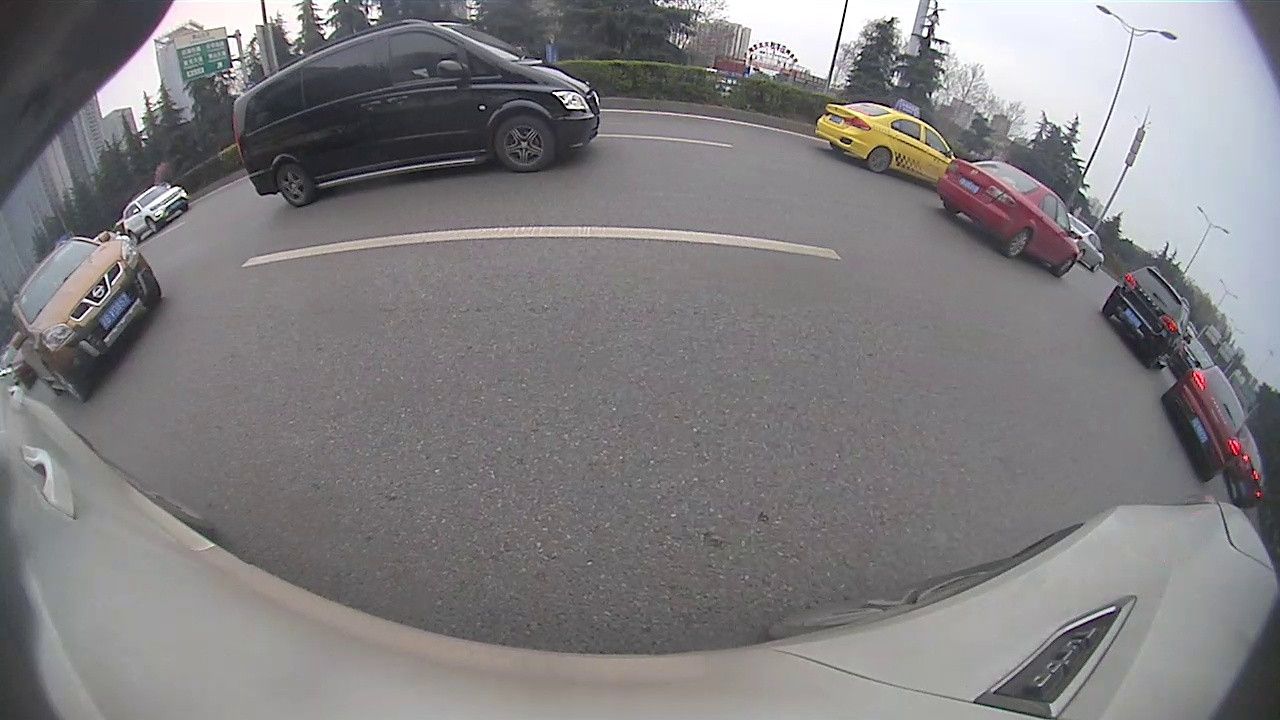car: (232, 16, 600, 206), (9, 232, 163, 403), (935, 157, 1076, 278), (814, 95, 952, 182), (1160, 361, 1250, 486), (1106, 260, 1190, 371), (124, 184, 192, 243), (1064, 214, 1103, 275)
front: (495, 113, 548, 172), (42, 360, 85, 405), (145, 216, 160, 235)
rear: (275, 164, 309, 204), (1003, 228, 1031, 259), (867, 146, 892, 172)
